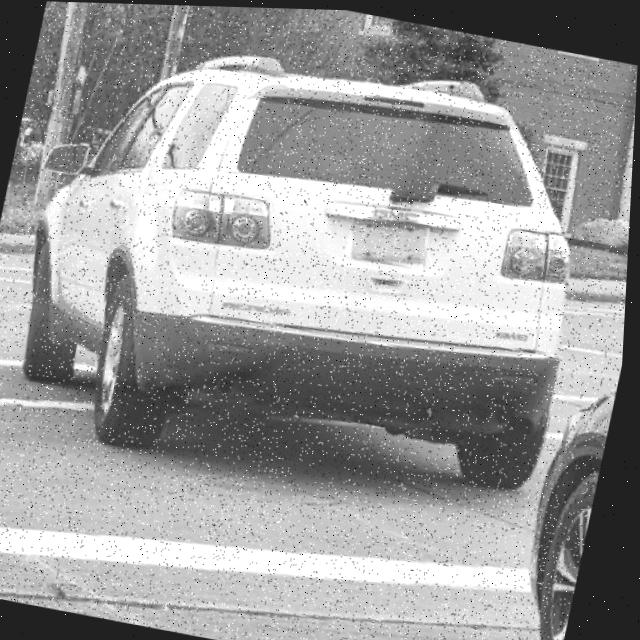LicensePlate: (353, 218, 429, 262)
